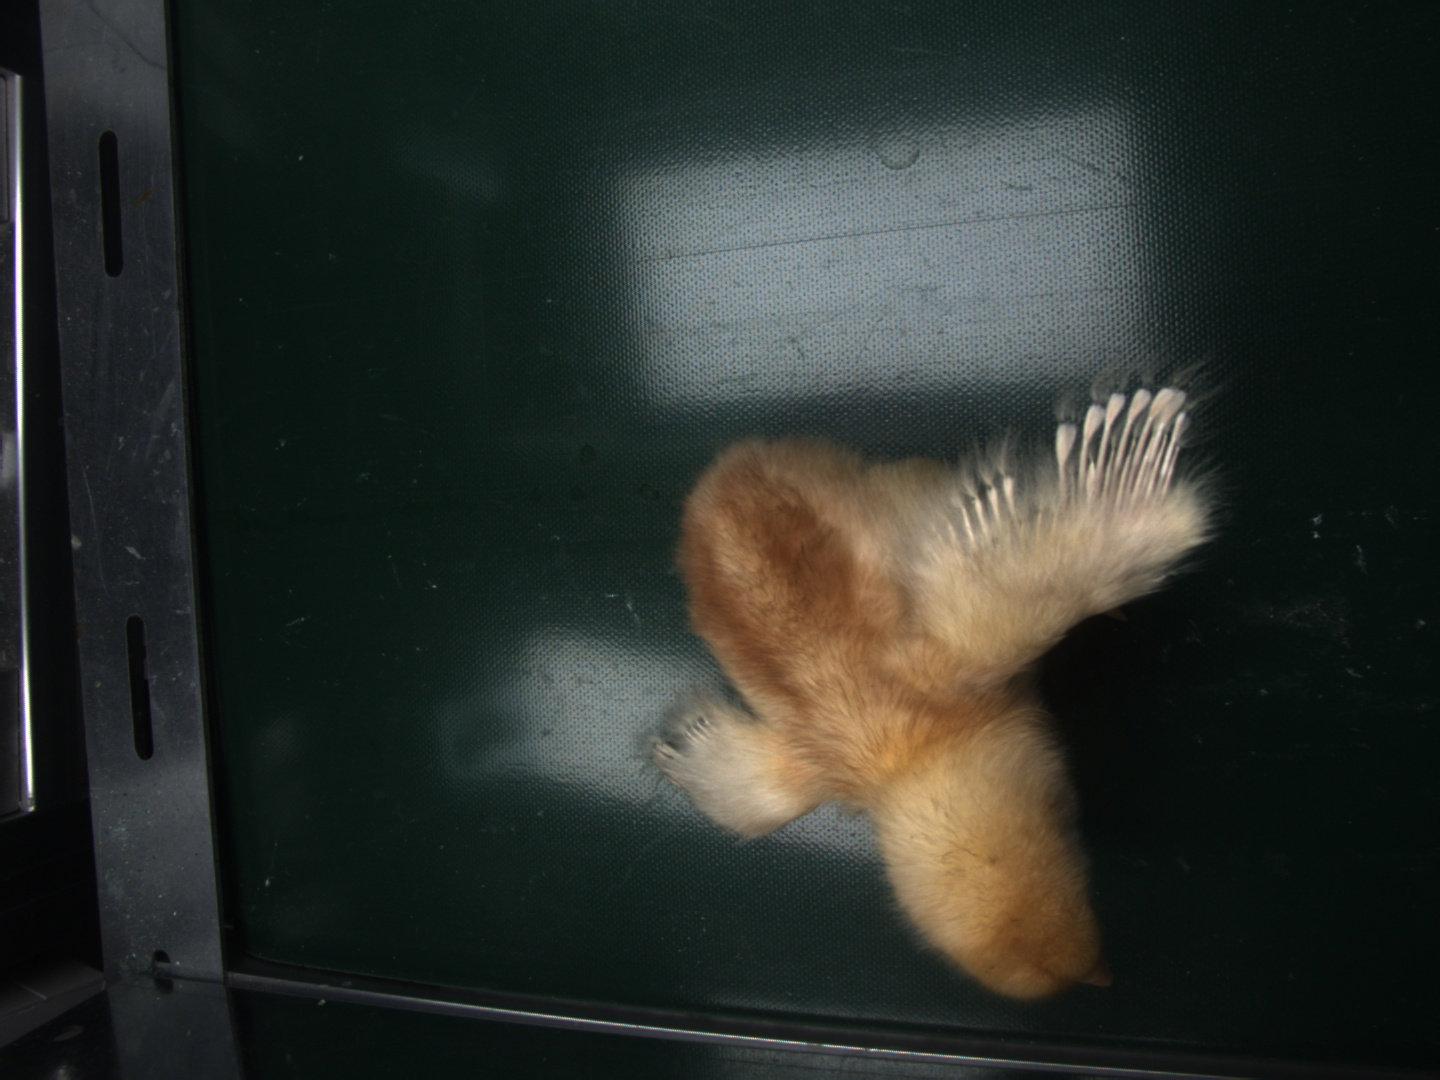female: (1073, 393, 1193, 489)
